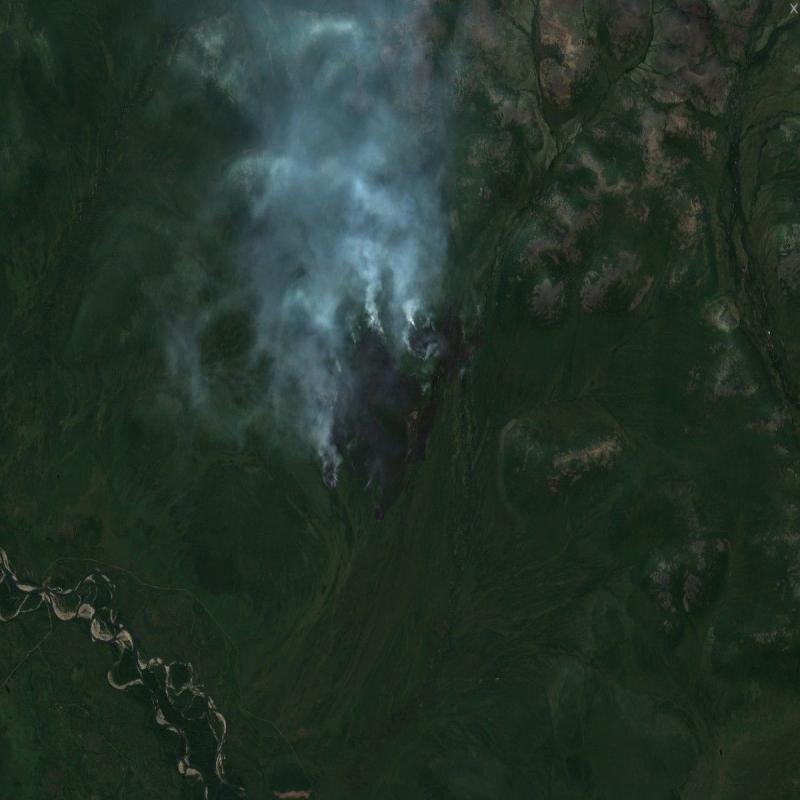fire: (316, 305, 441, 525)
